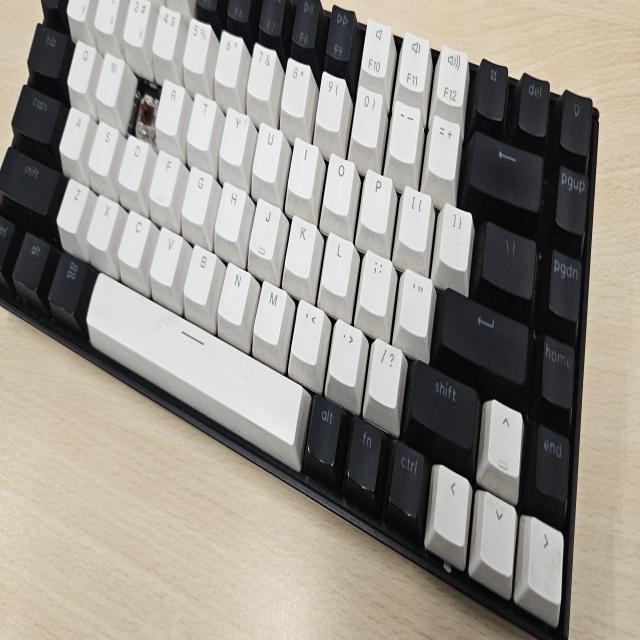C: (134, 84, 152, 140)
